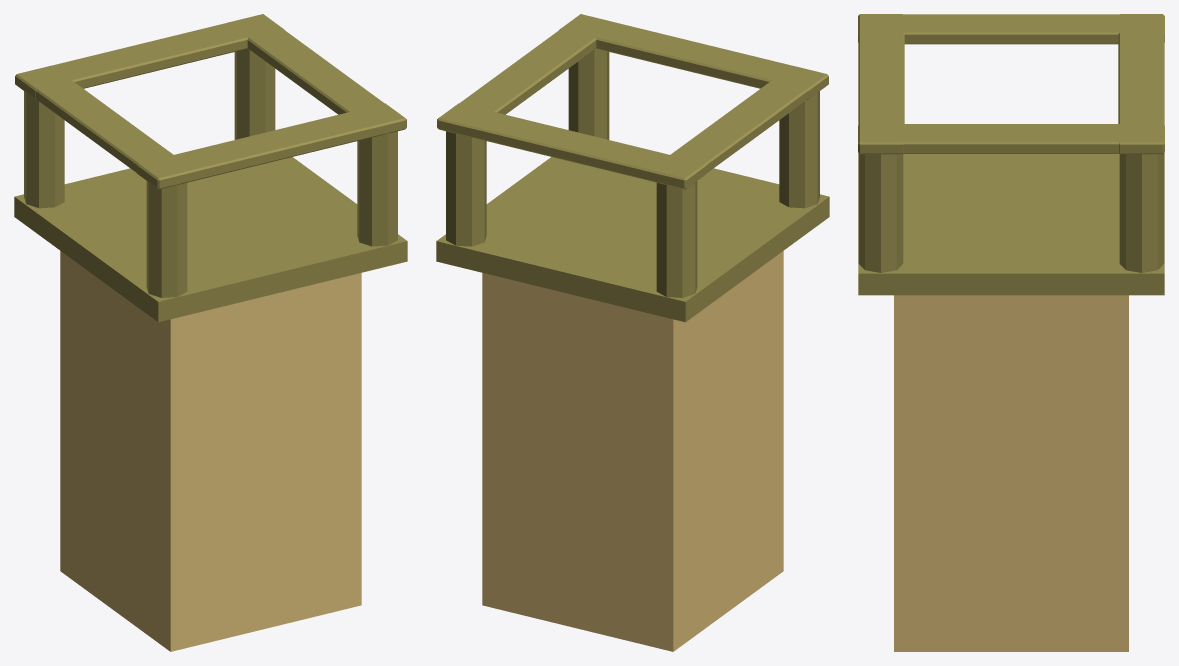
File: Tower.fbx
The picture shows the model from 3 angles, left to right: view 1: azimuth 30°, elevation 25°; view 2: azimuth 150°, elevation 25°; view 3: azimuth 270°, elevation 25°; orthographic projection. The views are drawn at different scales.
Visible parts, largest first — view 1: Cube, Cube.001, Cylinder, Cube.003, Cube.002; view 2: Cube, Cube.001, Cylinder, Cube.003, Cube.002; view 3: Cube, Cube.001, Cube.002, Cube.003, Cylinder.
Part boxes in pixels (x1,y1,x2,y2): Cube: [60, 251, 361, 651]; Cube.001: [14, 157, 407, 322]; Cylinder: [24, 49, 397, 297]; Cube.003: [15, 14, 406, 189]; Cube.002: [23, 29, 405, 189]; Cube: [482, 251, 783, 651]; Cube.001: [436, 157, 829, 322]; Cylinder: [446, 49, 819, 297]; Cube.003: [437, 14, 828, 189]; Cube.002: [438, 29, 807, 189]; Cube: [894, 295, 1128, 651]; Cube.001: [858, 153, 1164, 295]; Cube.002: [858, 14, 1164, 153]; Cube.003: [858, 14, 1164, 154]; Cylinder: [858, 153, 1164, 272].
Size of the model in its own units: 329 by 620 by 329.
